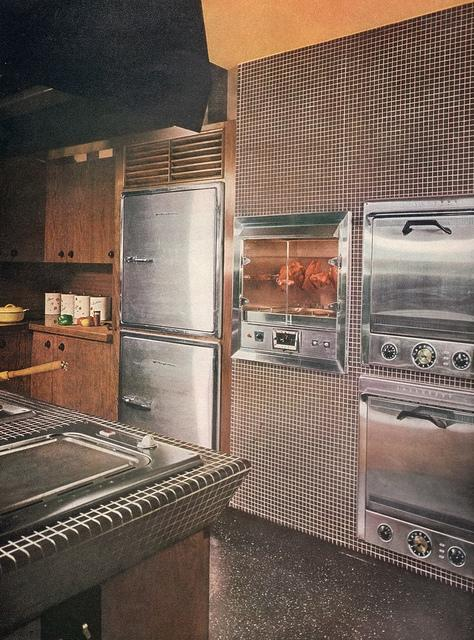bell pepper: (57, 314, 72, 326)
